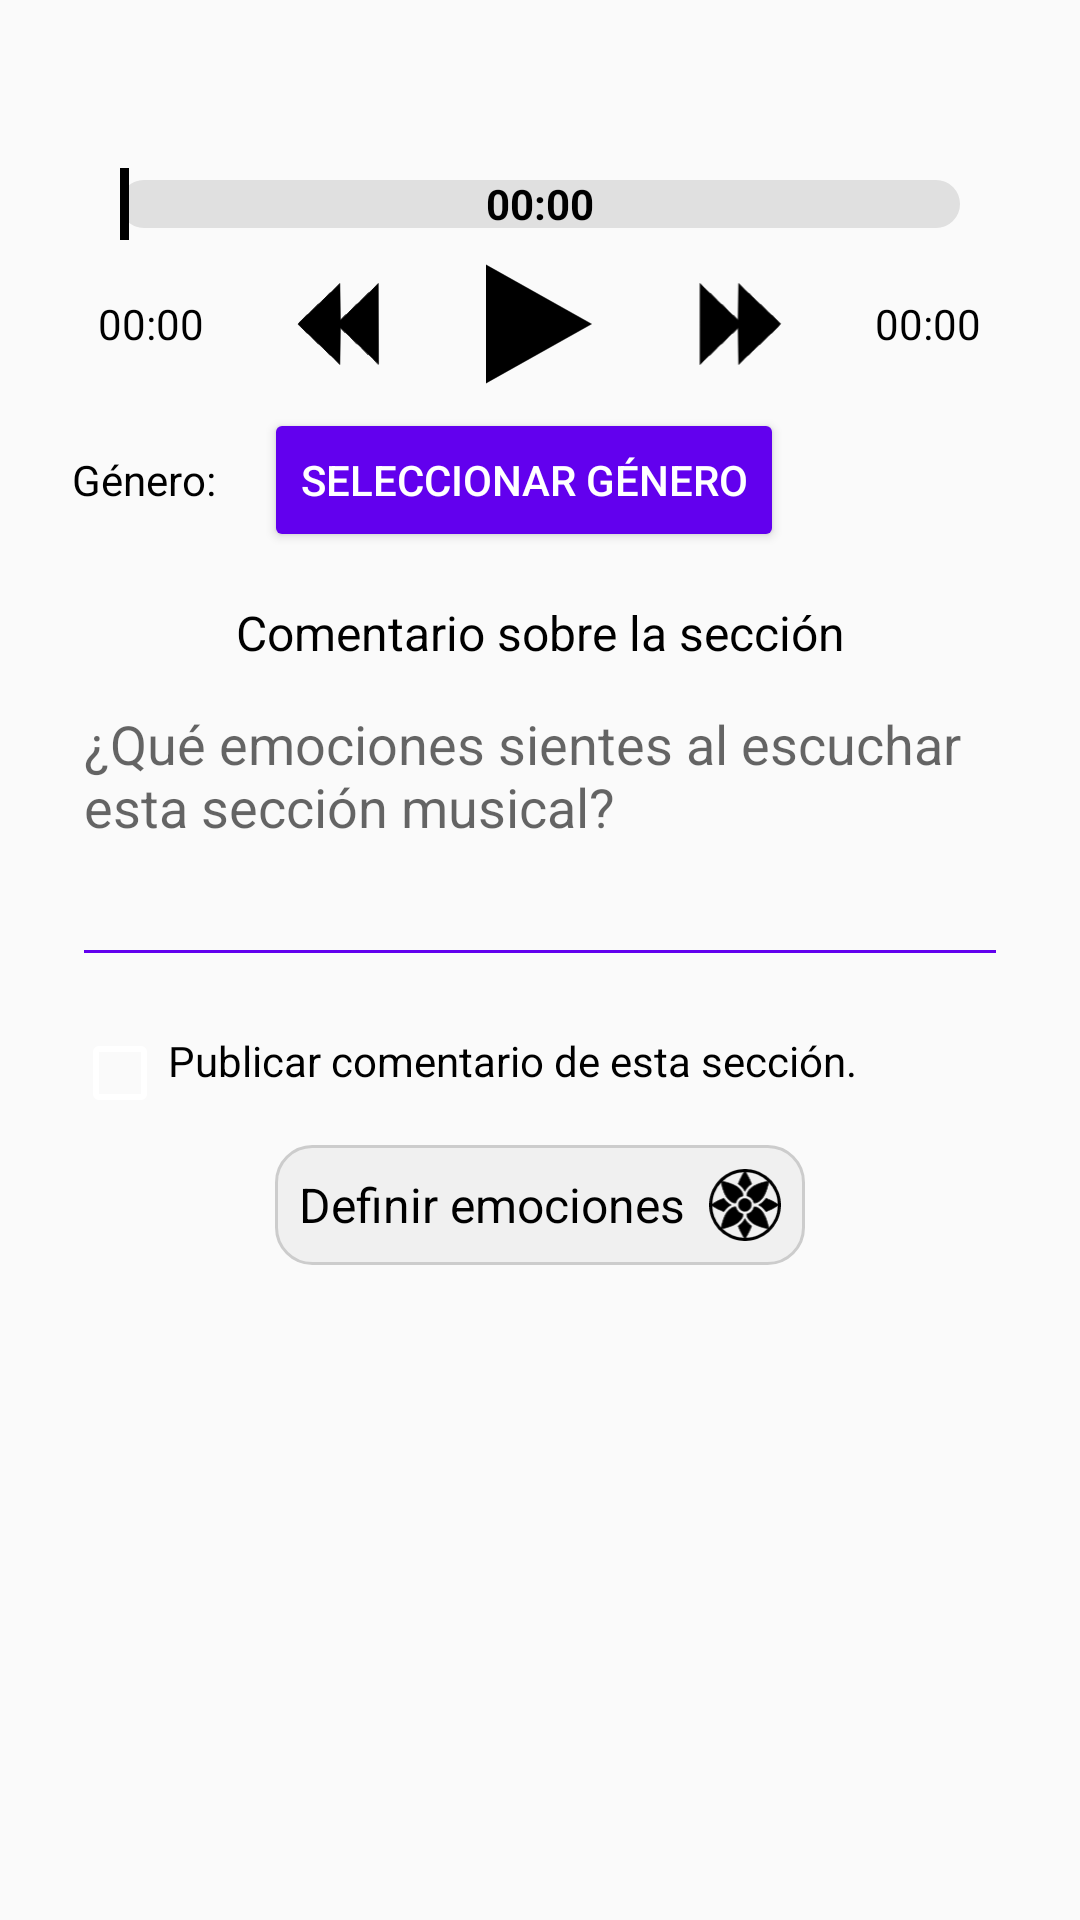

Screen size 1080x1920. Icon name, then its box in pixels as [x1=x1, y1=y1, x2=x2, y2=y2]:
Avanzar: [x1=699, y1=283, x2=781, y2=365]
iconoplutchik: [x1=709, y1=1169, x2=781, y2=1241]
Reproducir/Pausar: [x1=486, y1=264, x2=592, y2=384]
Retroceder: [x1=298, y1=283, x2=379, y2=365]
